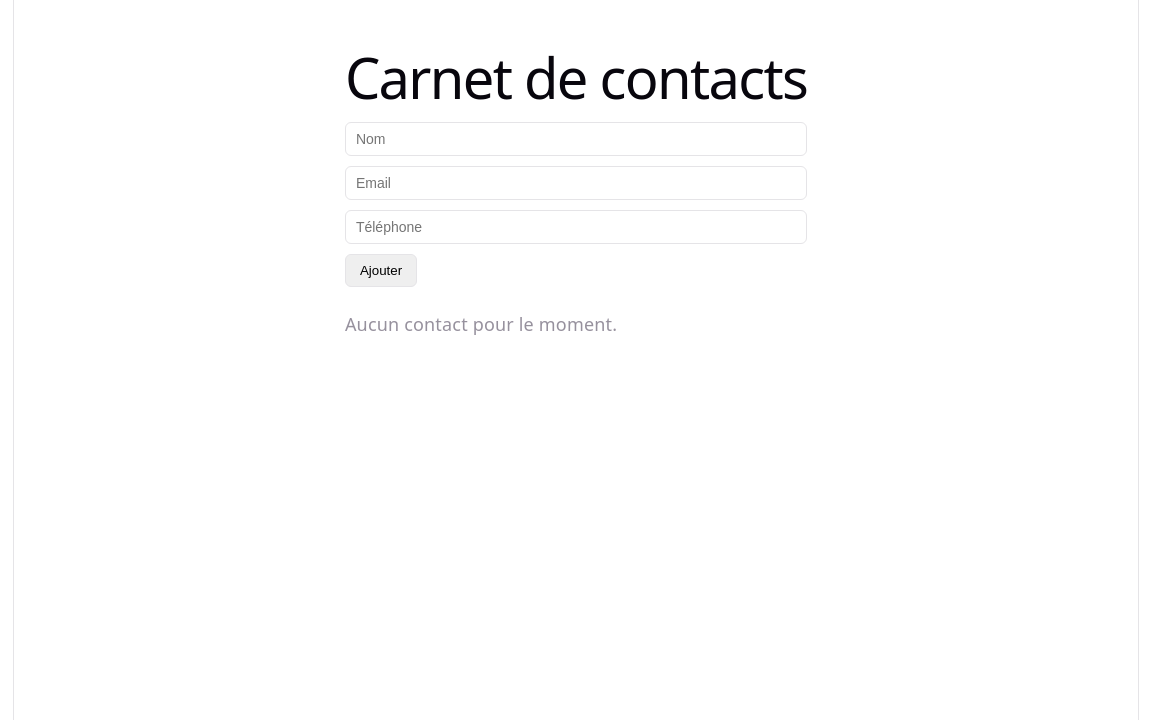
Test case: Carnet de contacts › supprime un contact
Type "Alan Turing" into the field with placeholder "Nom". click: {"x": 576, "y": 139}
box: [345,122,807,156]
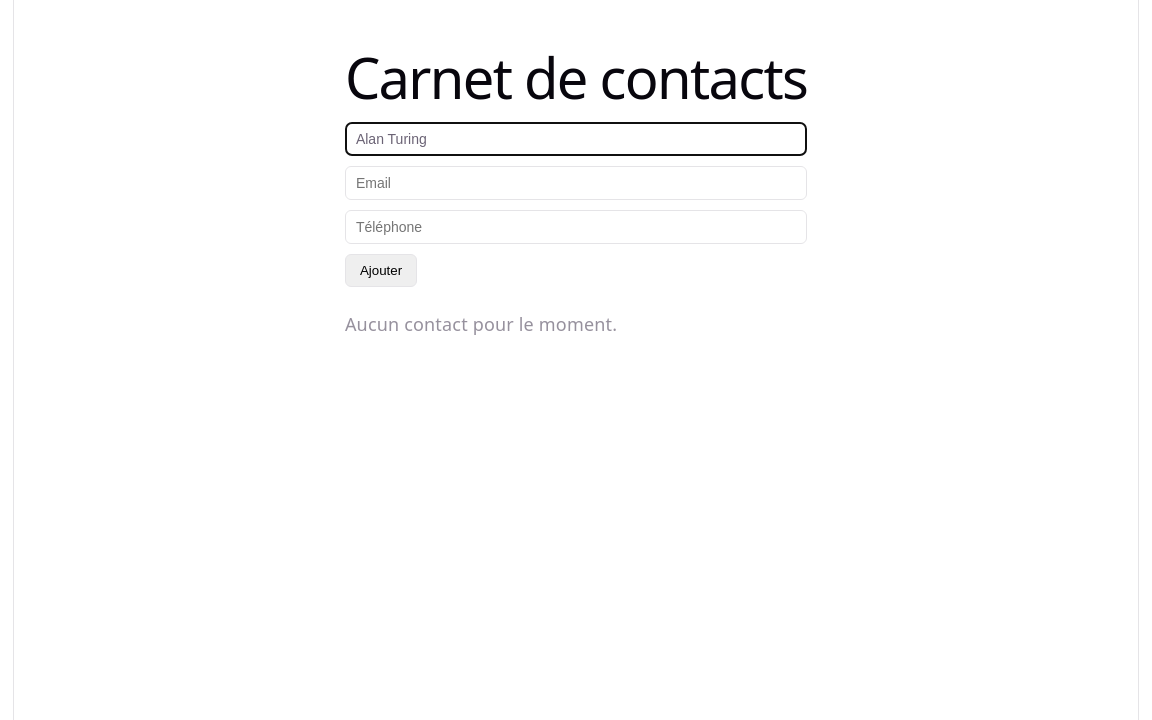
Click the button "Ajouter". click: {"x": 381, "y": 271}
box: [345,254,417,287]
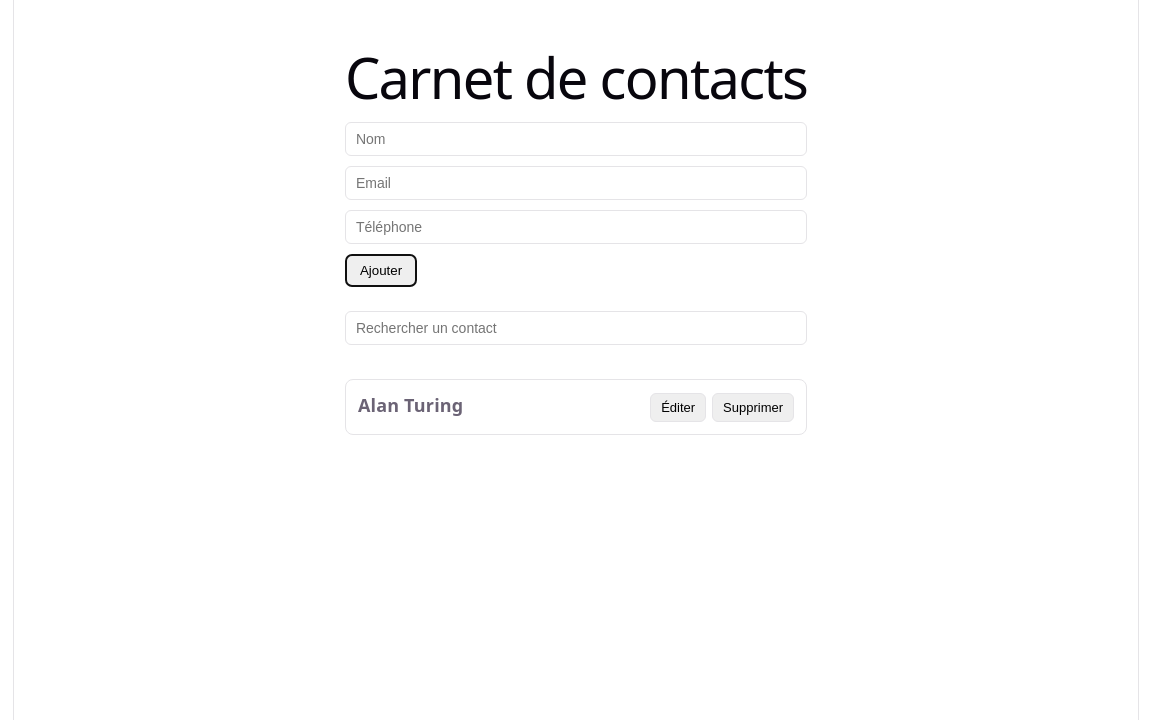
Check: the text "Alan Turing" is shown, box [358,393,463,417]
Click the button "Supprimer". click: {"x": 753, "y": 407}
box: [712,393,794,422]
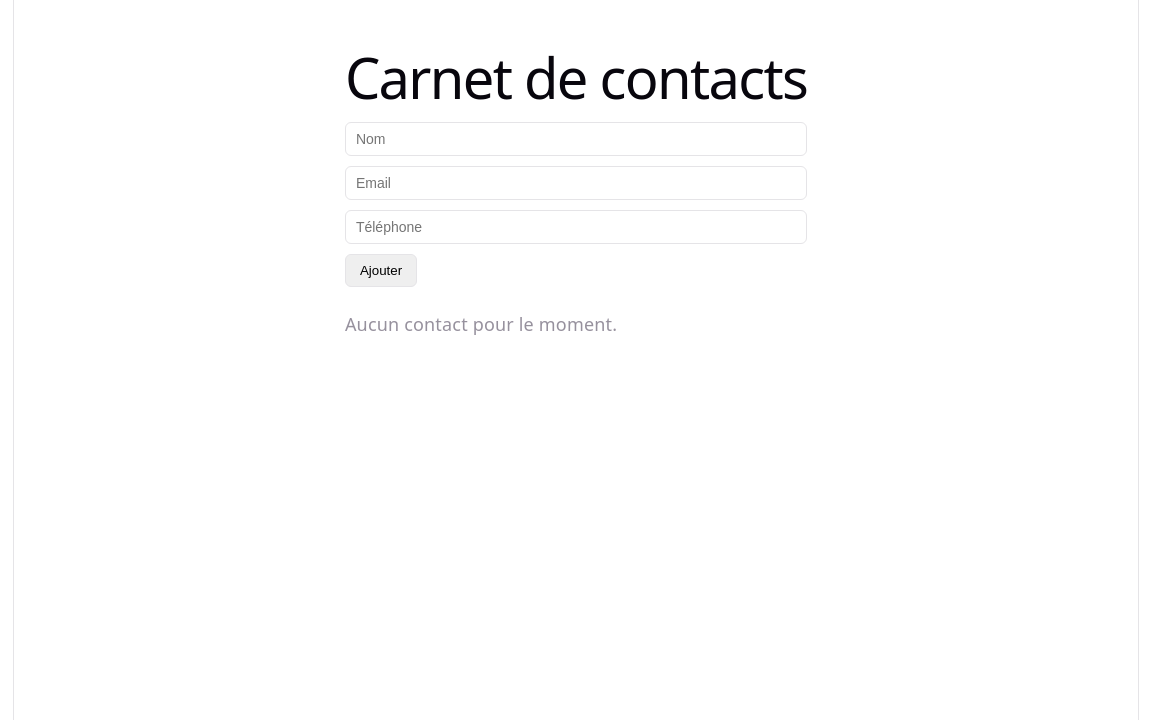
Check: the text "Alan Turing" is gone
Check: the text "Aucun contact pour le moment." is shown, box [345,312,617,336]
